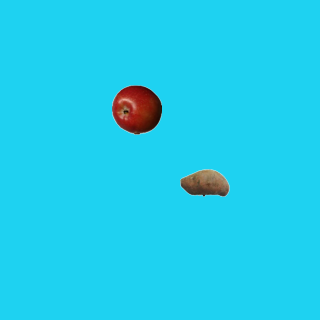Apple Braeburn: (111, 84, 161, 134)
Potato Sweet: (179, 157, 229, 207)
